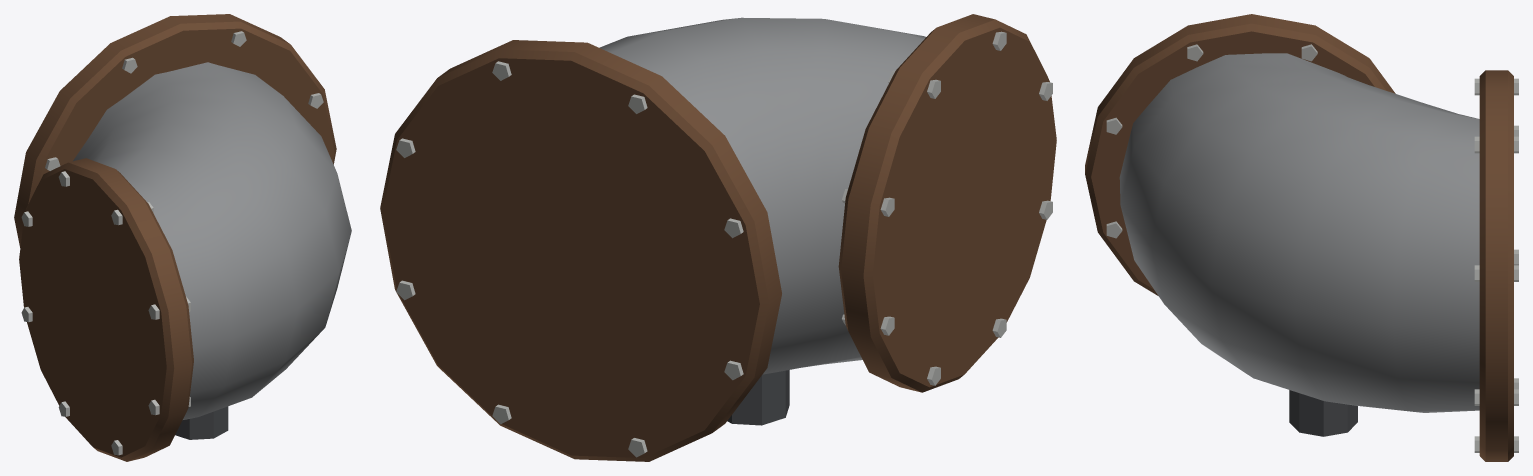
Rendered from pipe-corner-up-left.glb.
3 renders of one model, left to right at view 1: azimuth 30°, elevation 25°; view 2: azimuth 150°, elevation 25°; view 3: azimuth 270°, elevation 25°, orthographic. The views are drawn at different scales.
Visible parts, largest first — view 1: body; view 2: body; view 3: body.
Part boxes in pixels (left/top/right/bottom): body: left=14, top=14, right=351, bottom=461; body: left=380, top=14, right=1056, bottom=461; body: left=1085, top=14, right=1518, bottom=461.
Size of the model in its own units: 0.91 by 0.82 by 0.885.
